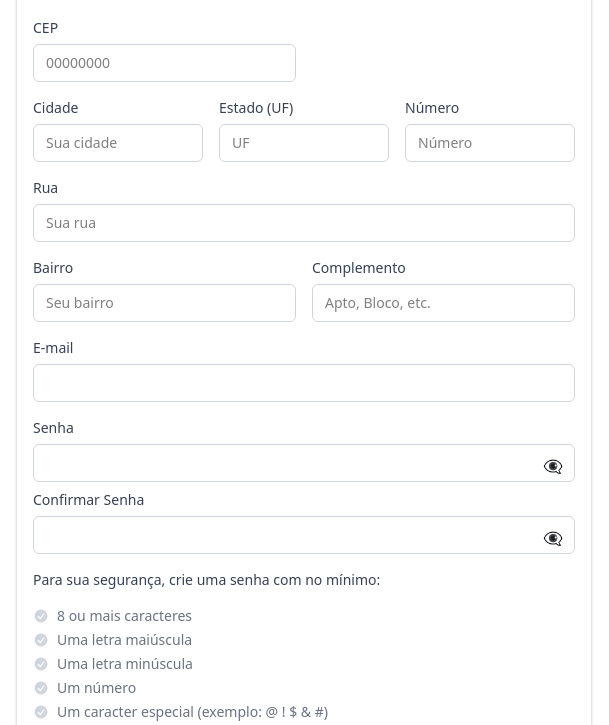
Register Component › deve validar formato de email
The width and height of the screenshot is (609, 725).
(page scrolled)
Type "email-invalido" into the field labelled "E-mail".
click(304, 383); type("email-invalido")  # box x1=33 y1=364 x2=575 y2=402
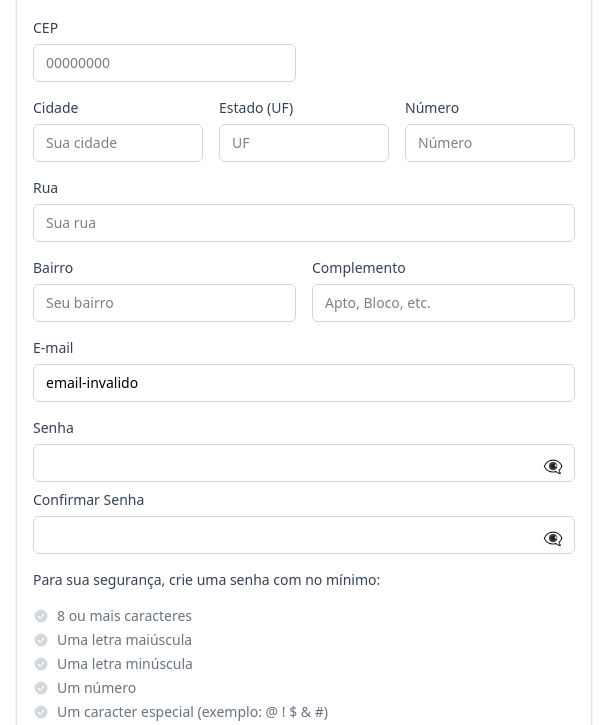
Leave the field labelled "E-mail", box x1=33 y1=364 x2=575 y2=402
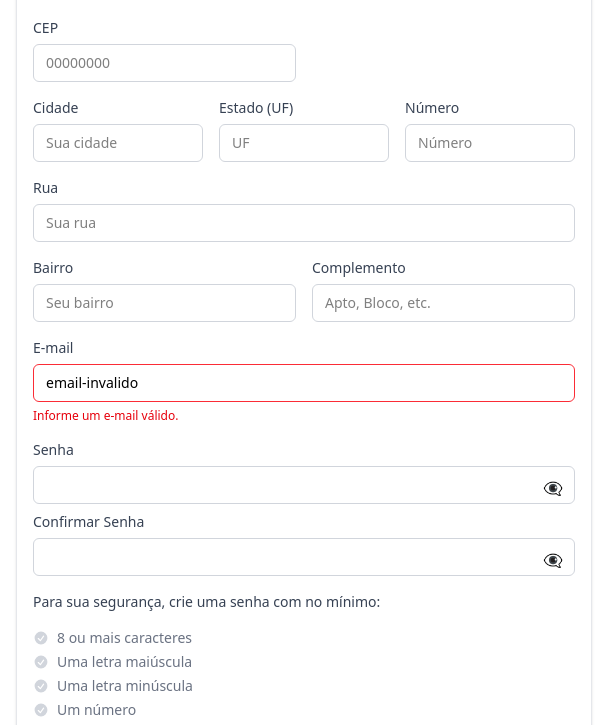
Expected: the text "Informe um e-mail válido." is shown, x1=33 y1=407 x2=178 y2=424
